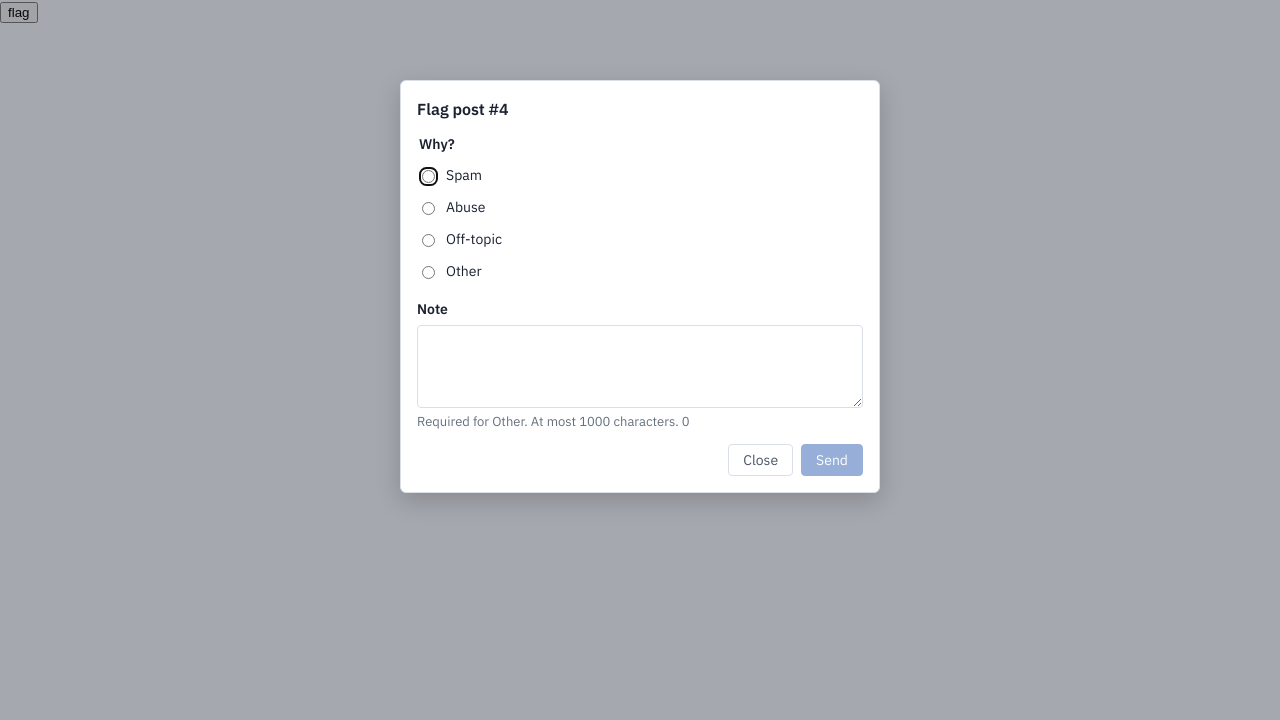
it: the flag dialog › unavailable is not a receipt
Click the radio button labelled "Other".
click(428, 273)  # box [422, 266, 435, 280]
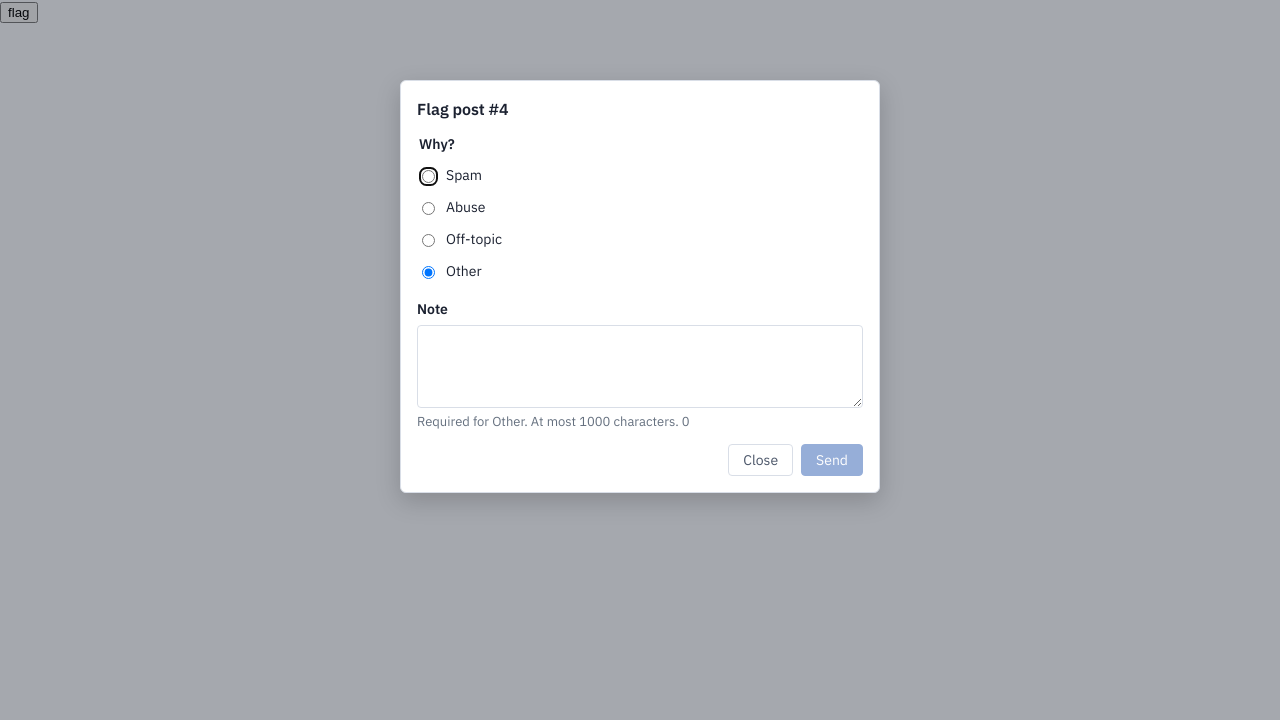
Type "why" into the text box labelled "Note".
click(640, 367); type("why")  # box [417, 325, 863, 408]
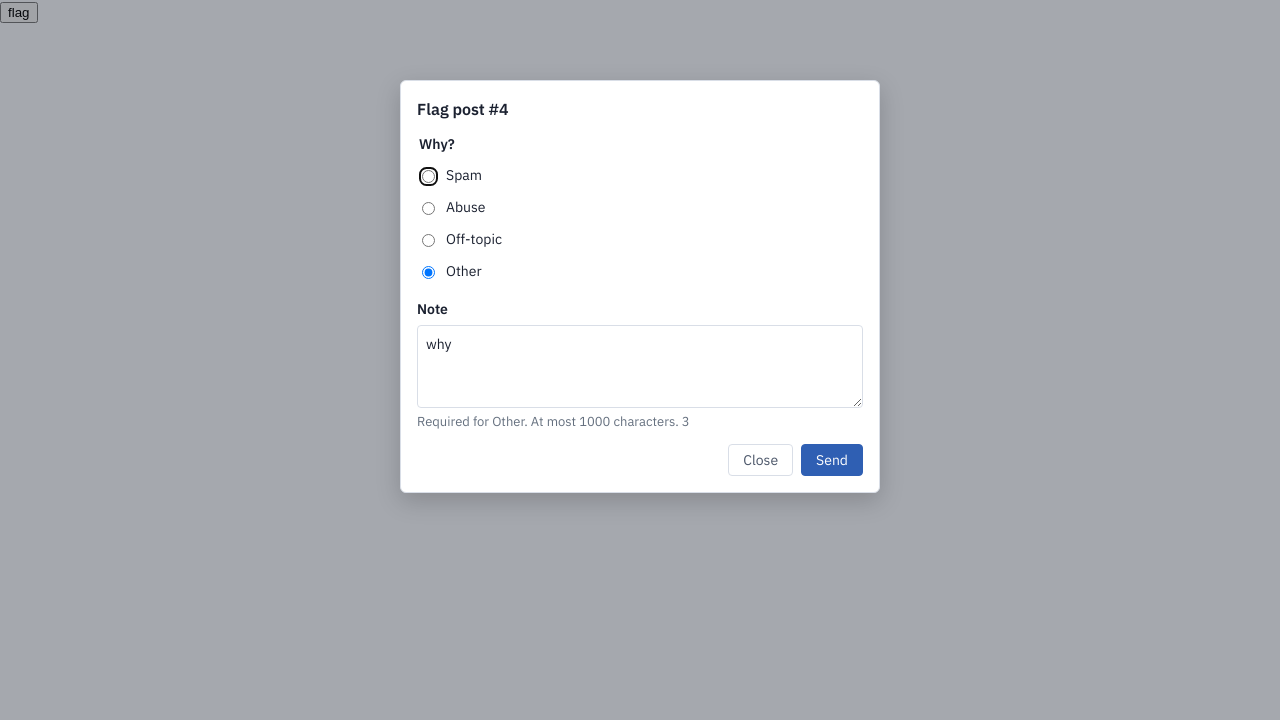
Click the button with class "flag-send".
click(832, 460)  # box [801, 444, 863, 476]
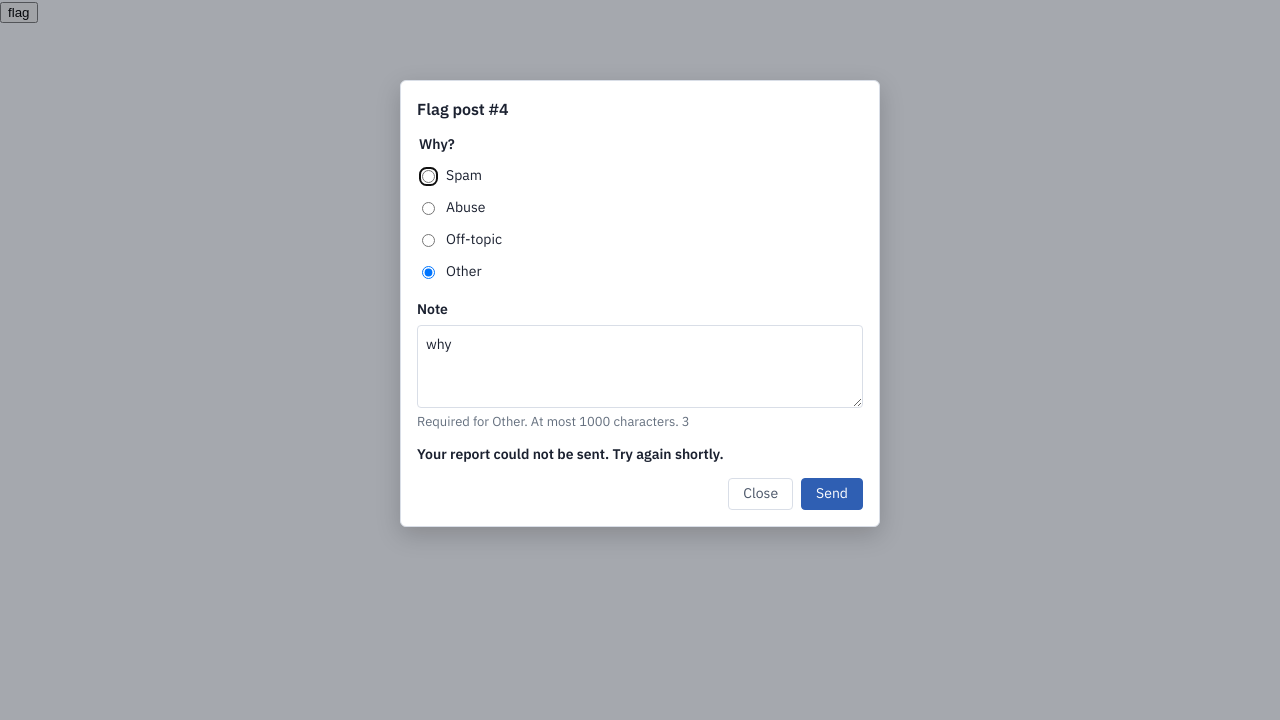
Check: the button with class "flag-send" is enabled, box [801, 478, 863, 510]
Check: the message "Your report could not be sent. Try again shortly." is shown, box [417, 445, 724, 463]
